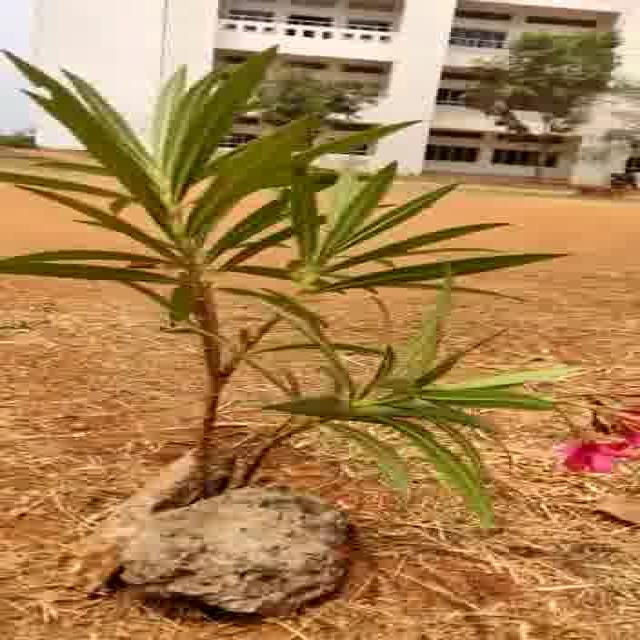OLEANDER: (0, 55, 628, 480)
